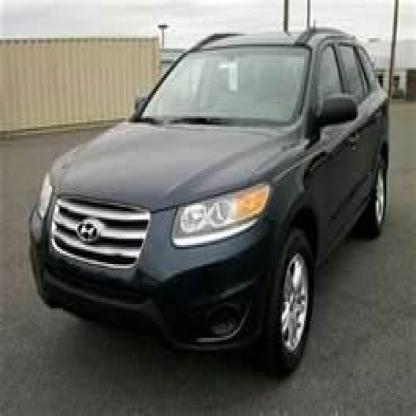Vehicle: (28, 26, 395, 387)
